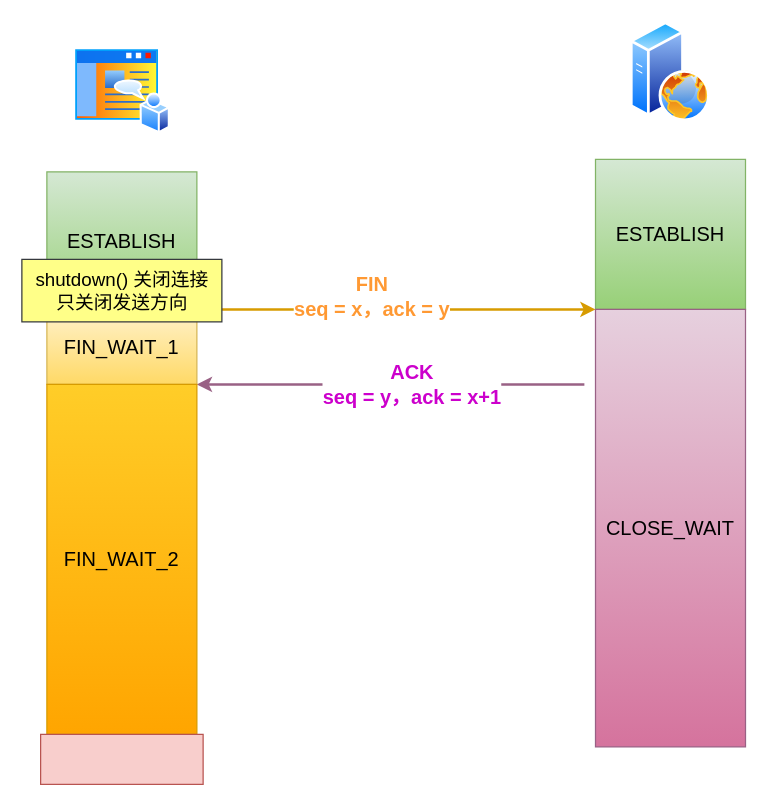
The diagram is 768 pixels wide and 806 high, and some of its shapes have lost their labels. Here are the shapes that lost their labels. From the top down, the centre of each, then its label:
At (121,90): "客户端".
At (670,71): "服务端".
At (121,758): "死等。。。。".
